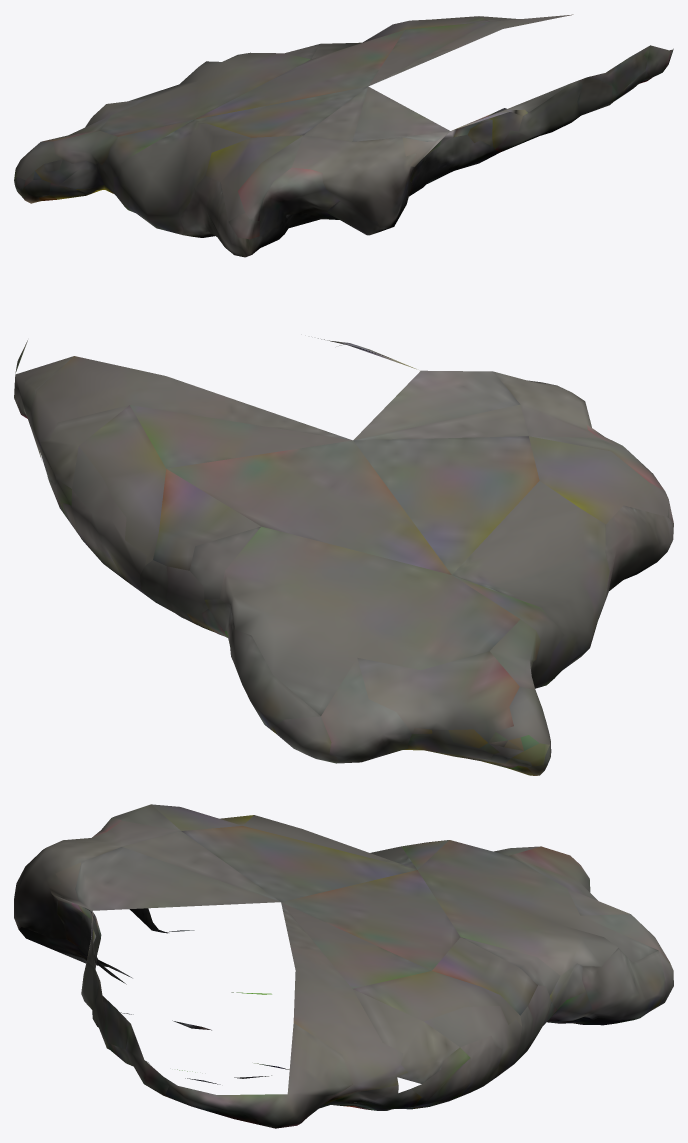
The model's file is hall.glb.
3 views of the same model, one above another, from view 1: azimuth 30°, elevation 25°; view 2: azimuth 150°, elevation 25°; view 3: azimuth 270°, elevation 25° (orthographic). The views are drawn at different scales.
Bounding box in the file's own units: 0.553 × 0.1553 × 0.4286.
1 material, 1 textured.
